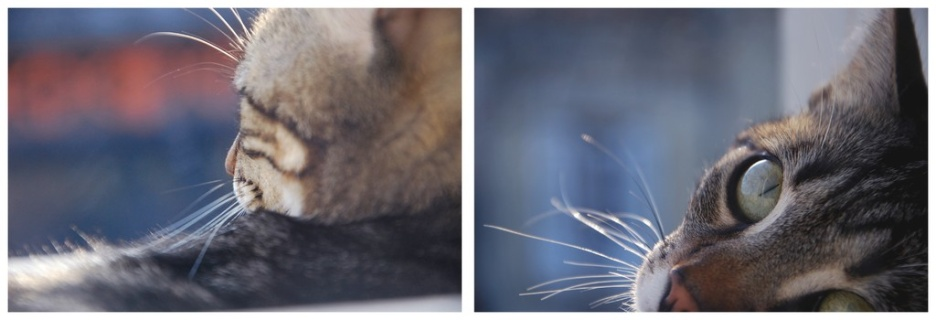Cat: (482, 6, 926, 313), (113, 0, 469, 286)
